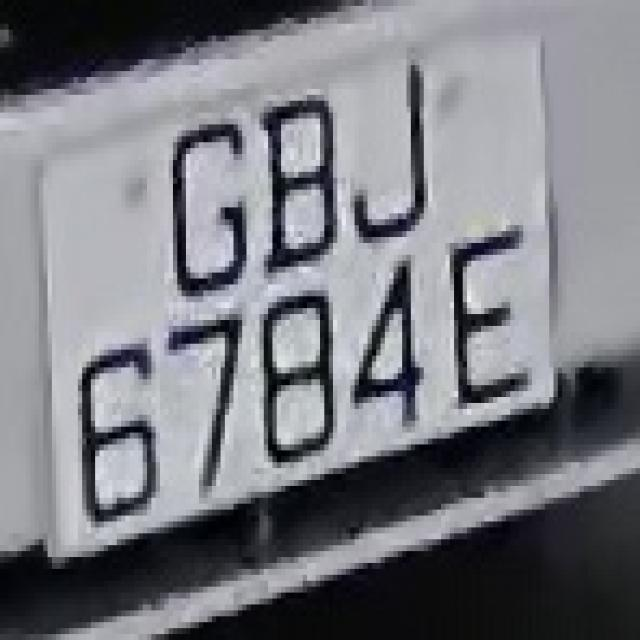4: (342, 261, 432, 450)
6: (65, 332, 169, 527)
7: (156, 308, 247, 510)
8: (255, 278, 346, 492)
B: (260, 83, 350, 278)
E: (450, 219, 536, 415)
G: (156, 83, 255, 332)
J: (363, 53, 441, 261)
